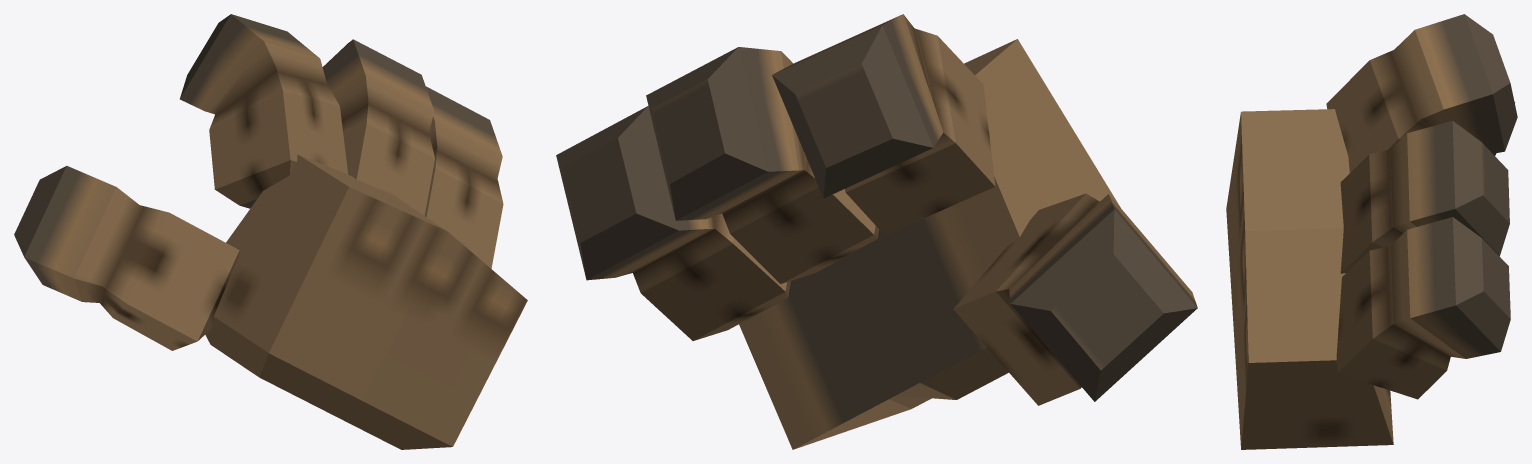
The model's file is grappleHand_01.fbx.
3 renders of one model, left to right at view 1: azimuth 30°, elevation 25°; view 2: azimuth 150°, elevation 25°; view 3: azimuth 270°, elevation 25°, orthographic. The views are drawn at different scales.
Parts seen in each view (by area): view 1: Player_01.014; view 2: Player_01.014; view 3: Player_01.014.
Part boxes in pixels (x1,y1,x2,y2): Player_01.014: [14, 14, 527, 449]; Player_01.014: [556, 14, 1197, 449]; Player_01.014: [1226, 14, 1517, 449].
Size of the model in its own units: 152 by 116 by 79.6.
